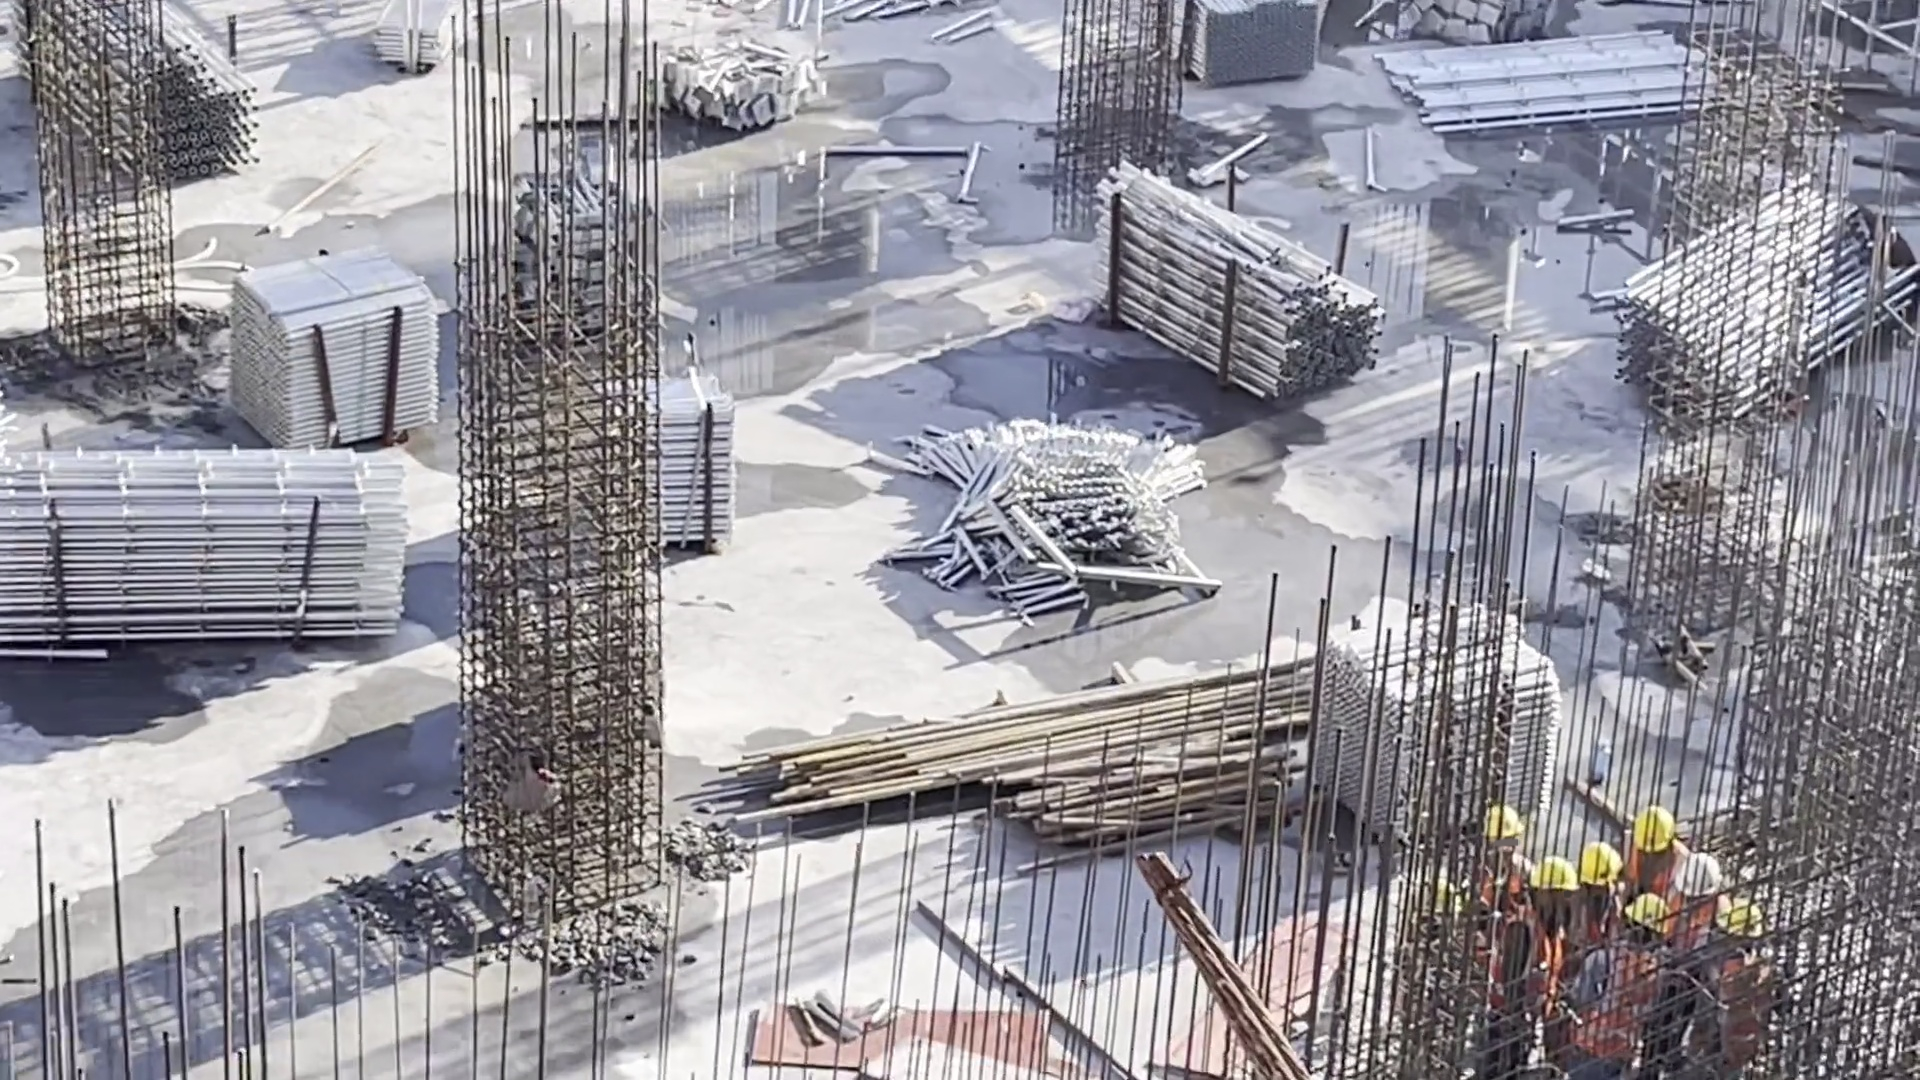helmet: (1633, 813, 1677, 855), (1525, 857, 1573, 893), (1631, 896, 1674, 932), (1716, 903, 1760, 937), (1489, 803, 1523, 844), (1682, 858, 1724, 893), (1584, 848, 1620, 882)
person: (1485, 856, 1576, 1080), (1687, 899, 1781, 1080), (1582, 895, 1672, 1080), (1466, 798, 1523, 1080), (1618, 791, 1695, 895), (1571, 840, 1628, 963), (1677, 854, 1717, 986)
scaffold: (1, 461, 443, 651), (1613, 199, 1881, 440), (931, 415, 1176, 611), (1109, 209, 1324, 397), (21, 1, 247, 175), (1351, 645, 1540, 845), (255, 287, 461, 468), (1369, 33, 1710, 115), (603, 401, 761, 564), (1168, 1, 1325, 95), (374, 1, 447, 72)
vest: (1706, 950, 1774, 1052), (1499, 910, 1560, 1015), (1593, 948, 1653, 1051)
